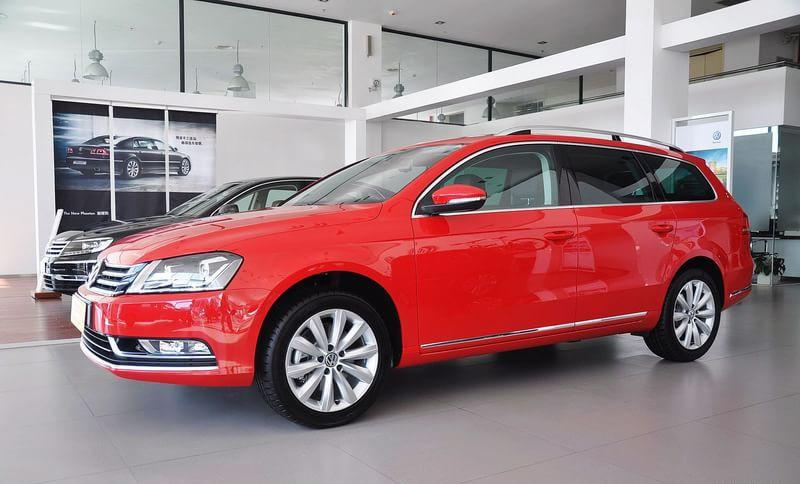Wagon: (71, 123, 756, 428)
